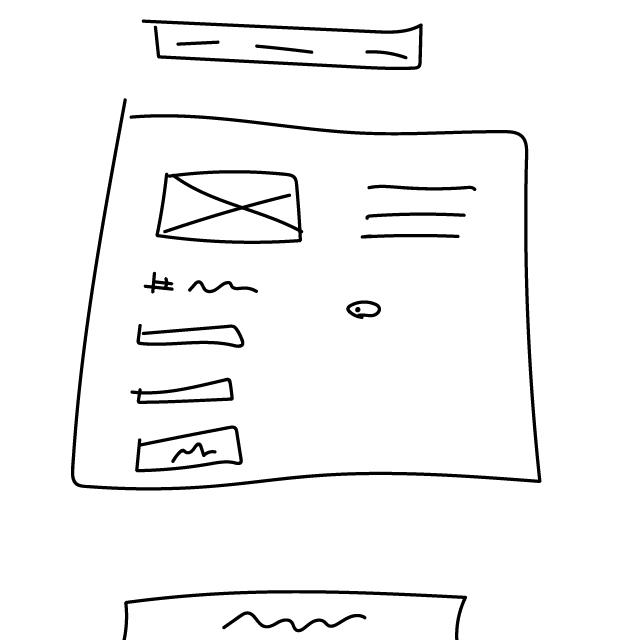buttonrotation: (131, 425, 248, 474)
checkboxrotation: (344, 298, 385, 323)
containerrotation: (62, 84, 568, 511)
footerrotation: (117, 581, 471, 640)
framerotation: (157, 167, 307, 247)
headingrotation: (140, 270, 266, 301)
inputrotation: (134, 320, 250, 355), (131, 378, 243, 409)
navrotation: (137, 15, 430, 73)
textrotation: (357, 178, 482, 247)
